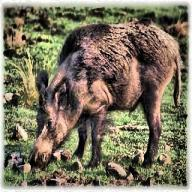boar: (28, 16, 184, 170)
